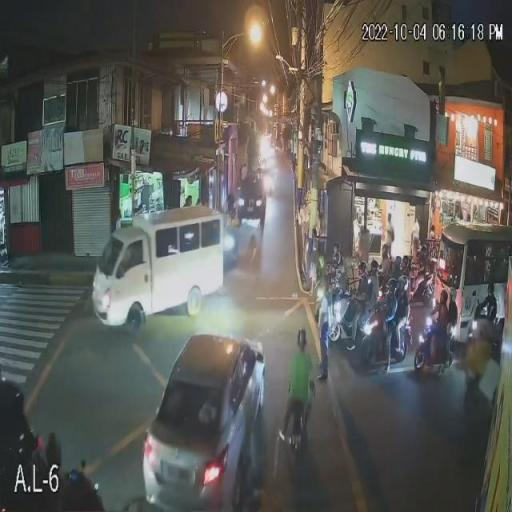helmet: (292, 327, 312, 356), (394, 275, 410, 296), (330, 250, 346, 270), (444, 288, 460, 306), (376, 241, 390, 261), (482, 280, 496, 297), (420, 244, 430, 262), (386, 274, 399, 287), (438, 289, 450, 302), (358, 260, 368, 272)
motorcycle: (357, 304, 413, 366), (322, 281, 365, 345), (413, 314, 455, 374), (286, 380, 316, 450), (408, 273, 438, 307)
rider: (373, 276, 405, 350), (288, 328, 314, 418), (347, 261, 371, 334), (426, 288, 450, 358), (366, 258, 384, 338), (476, 280, 498, 342), (445, 286, 462, 358), (413, 244, 431, 306), (328, 252, 350, 292), (375, 243, 393, 283)
